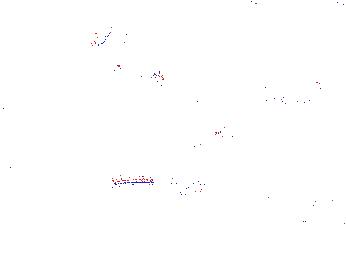glassfish: (177, 94, 293, 171), (105, 173, 209, 200)
red belly glassfish: (310, 53, 324, 86)
redtail glassfish: (90, 16, 152, 50), (110, 60, 172, 90)
